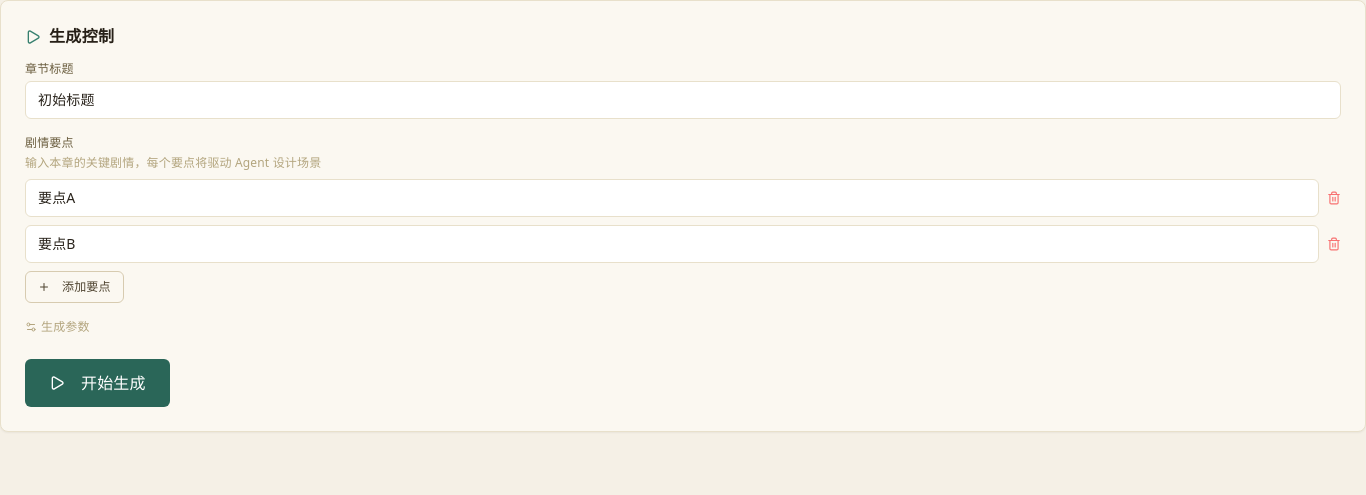
Test: ChapterGenerator › 点击添加要点追加空要点
The image size is (1366, 495).
Click the button "添加要点" at (74, 287), box [25, 271, 124, 303]
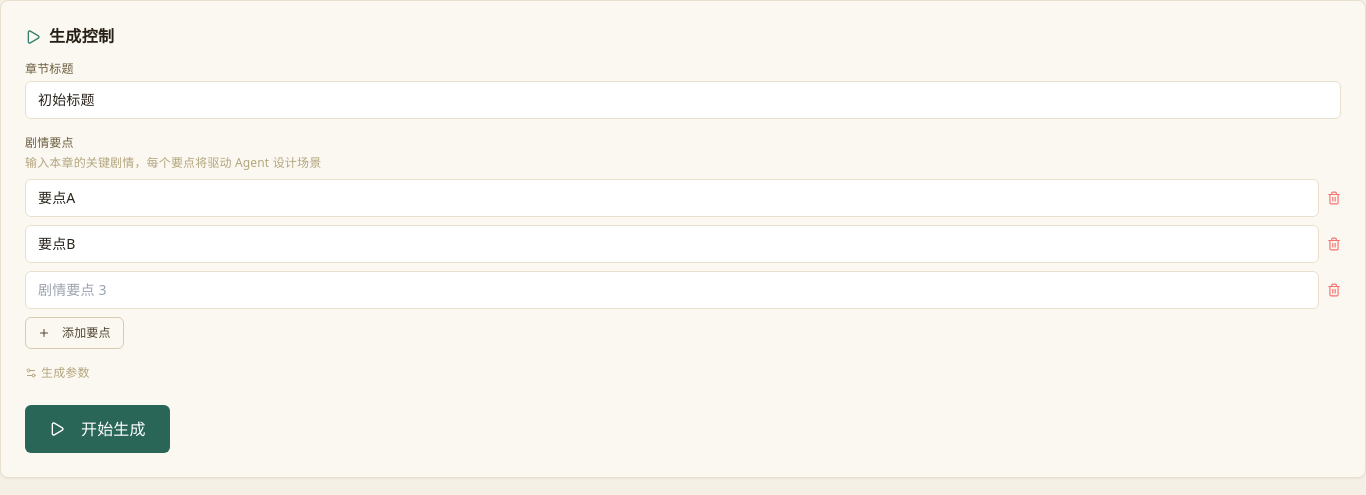
Expected: the field with placeholder "剧情要点 3" is shown, [25, 271, 1319, 309]
